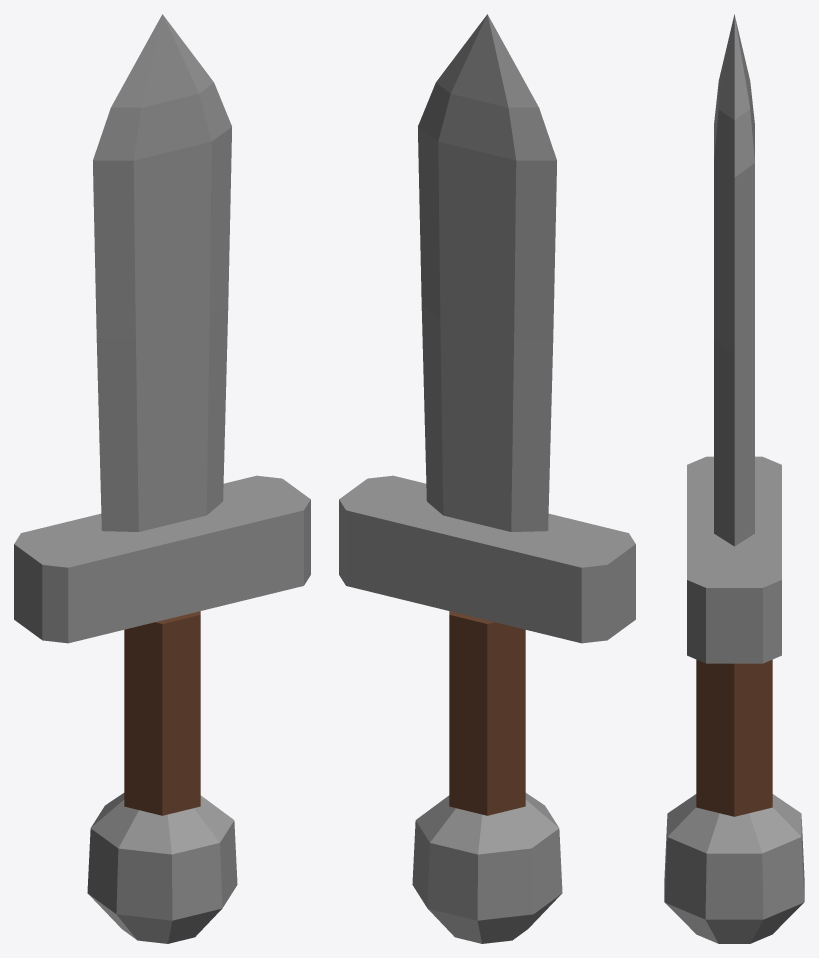
File: prop-sword-shieldbearer.glb
3 views of the same model, side by side, from view 1: azimuth 30°, elevation 25°; view 2: azimuth 150°, elevation 25°; view 3: azimuth 270°, elevation 25° (orthographic).
Parts seen in each view (by area): view 1: sword-shieldbearer; view 2: sword-shieldbearer; view 3: sword-shieldbearer.
Boxes of the visible parts, x1,y1,x2,y2 form: sword-shieldbearer: (14,14,310,943); sword-shieldbearer: (339,14,635,943); sword-shieldbearer: (664,14,804,943).
Bounding box in the file's own units: 0.1966 × 0.6388 × 0.0887.
1 material, 1 textured.
